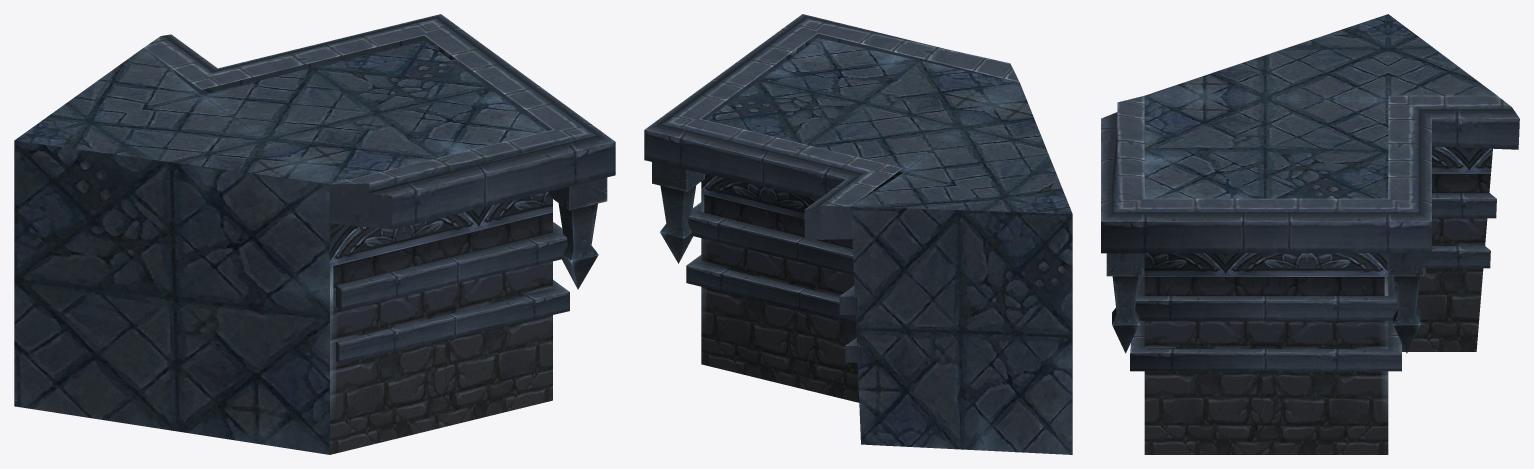
The model's file is Ice_platform09_01.FBX.
The picture shows the model from 3 angles, left to right: view 1: azimuth 30°, elevation 25°; view 2: azimuth 150°, elevation 25°; view 3: azimuth 270°, elevation 25°; orthographic projection. The views are drawn at different scales.
Visible parts, largest first — view 1: Ice_platform09_01; view 2: Ice_platform09_01; view 3: Ice_platform09_01.
Boxes of the visible parts, box(x1,y1,x2,y2) form: Ice_platform09_01: box(14, 14, 615, 454); Ice_platform09_01: box(644, 14, 1072, 454); Ice_platform09_01: box(1101, 14, 1519, 454).
Bounding box in the file's own units: 917 × 537 × 782.
